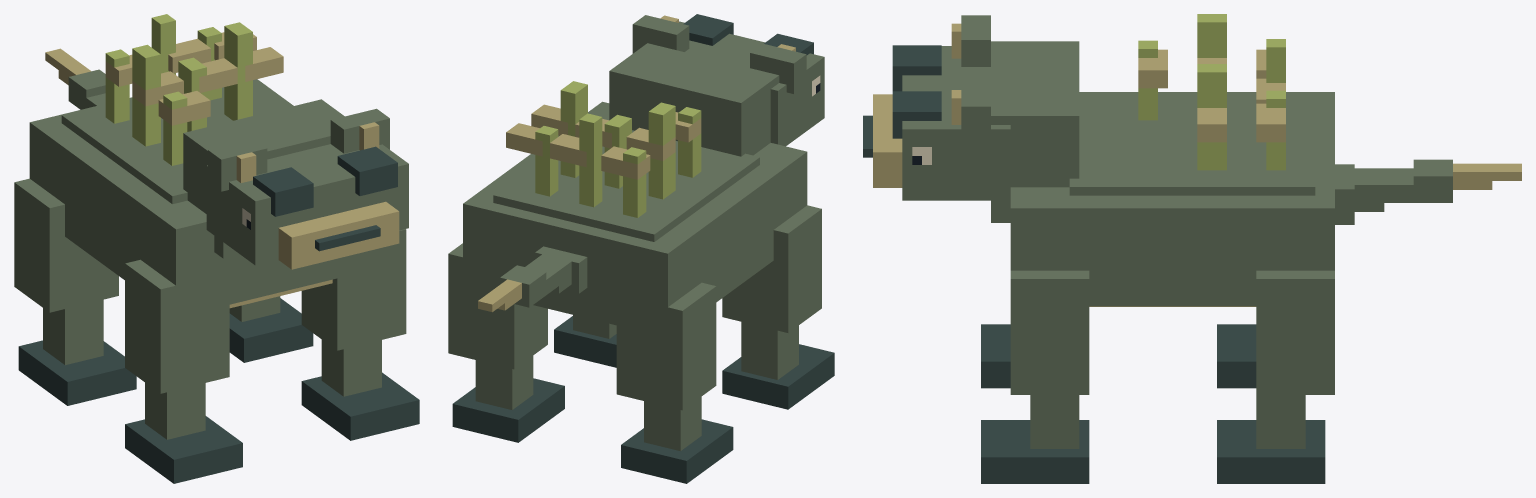
File: reed_grazer.glb
3 views of the same model, side by side, from view 1: azimuth 30°, elevation 25°; view 2: azimuth 150°, elevation 25°; view 3: azimuth 270°, elevation 25° (orthographic). The views are drawn at different scales.
Visible parts, largest first — view 1: reed_grazer/thorax, reed_grazer/head, reed_grazer/left_foreleg, reed_grazer/left_hindleg, reed_grazer/right_foreleg, reed_grazer/reed_back, reed_grazer/neck, reed_grazer/right_hindleg, reed_grazer/head_ear_l, reed_grazer/head_ear_r, reed_grazer/tail; view 2: reed_grazer/thorax, reed_grazer/left_hindleg, reed_grazer/reed_back, reed_grazer/left_foreleg, reed_grazer/right_hindleg, reed_grazer/neck, reed_grazer/head, reed_grazer/tail, reed_grazer/right_foreleg, reed_grazer/head_ear_l, reed_grazer/head_ear_r; view 3: reed_grazer/thorax, reed_grazer/right_foreleg, reed_grazer/right_hindleg, reed_grazer/head, reed_grazer/neck, reed_grazer/reed_back, reed_grazer/tail, reed_grazer/left_hindleg, reed_grazer/head_ear_r, reed_grazer/left_foreleg, reed_grazer/head_ear_l.
Boxes of the visible parts, left/top/right/bottom form: reed_grazer/thorax: left=29, top=79, right=390, bottom=316; reed_grazer/head: left=206, top=144, right=408, bottom=269; reed_grazer/left_foreleg: left=125, top=259, right=242, bottom=483; reed_grazer/left_hindleg: left=14, top=178, right=136, bottom=405; reed_grazer/right_foreleg: left=301, top=229, right=419, bottom=440; reed_grazer/reed_back: left=105, top=14, right=283, bottom=165; reed_grazer/neck: left=183, top=99, right=344, bottom=258; reed_grazer/right_hindleg: left=229, top=296, right=313, bottom=362; reed_grazer/head_ear_l: left=208, top=138, right=267, bottom=191; reed_grazer/head_ear_r: left=330, top=108, right=389, bottom=153; reed_grazer/tail: left=45, top=48, right=105, bottom=109; reed_grazer/thorax: left=463, top=101, right=807, bottom=337; reed_grazer/left_hindleg: left=616, top=282, right=733, bottom=483; reed_grazer/reed_back: left=506, top=81, right=701, bottom=217; reed_grazer/left_foreleg: left=722, top=205, right=834, bottom=409; reed_grazer/right_hindleg: left=448, top=243, right=564, bottom=442; reed_grazer/neck: left=609, top=43, right=779, bottom=156; reed_grazer/head: left=679, top=14, right=824, bottom=146; reed_grazer/tail: left=478, top=246, right=587, bottom=312; reed_grazer/right_foreleg: left=554, top=315, right=616, bottom=367; reed_grazer/head_ear_l: left=750, top=43, right=806, bottom=93; reed_grazer/head_ear_r: left=632, top=15, right=689, bottom=53; reed_grazer/thorax: left=1010, top=92, right=1334, bottom=306; reed_grazer/right_foreleg: left=981, top=270, right=1089, bottom=483; reed_grazer/right_hindleg: left=1217, top=270, right=1334, bottom=483; reed_grazer/head: left=863, top=45, right=1010, bottom=200; reed_grazer/neck: left=991, top=41, right=1079, bottom=222; reed_grazer/reed_back: left=1138, top=14, right=1285, bottom=170; reed_grazer/tail: left=1335, top=159, right=1521, bottom=224; reed_grazer/left_hindleg: left=1217, top=324, right=1256, bottom=388; reed_grazer/head_ear_r: left=951, top=81, right=990, bottom=142; reed_grazer/left_foreleg: left=981, top=324, right=1010, bottom=388; reed_grazer/head_ear_l: left=951, top=15, right=990, bottom=66.
Size of the model in its own units: 1 by 1.31 by 2.09.
